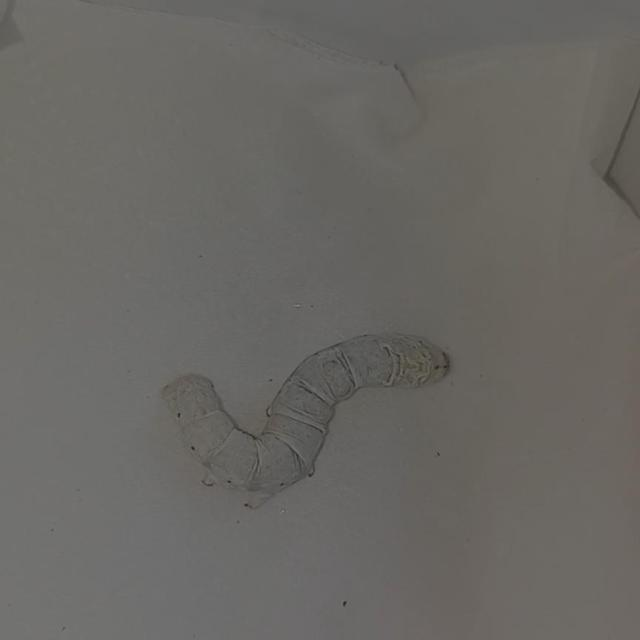Healthy: (134, 303, 486, 532)
